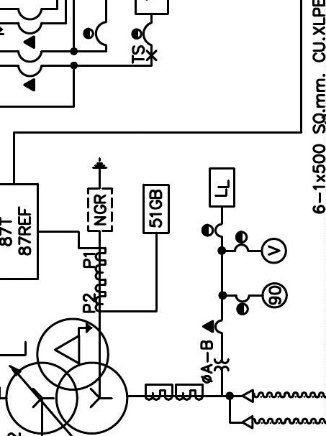11522_tx_ynyn0d1: (5, 317, 129, 435)
LL: (208, 167, 235, 208)
NGR_future: (87, 157, 114, 233)
terminator_double: (228, 388, 254, 430)
v_m: (260, 237, 288, 265)
